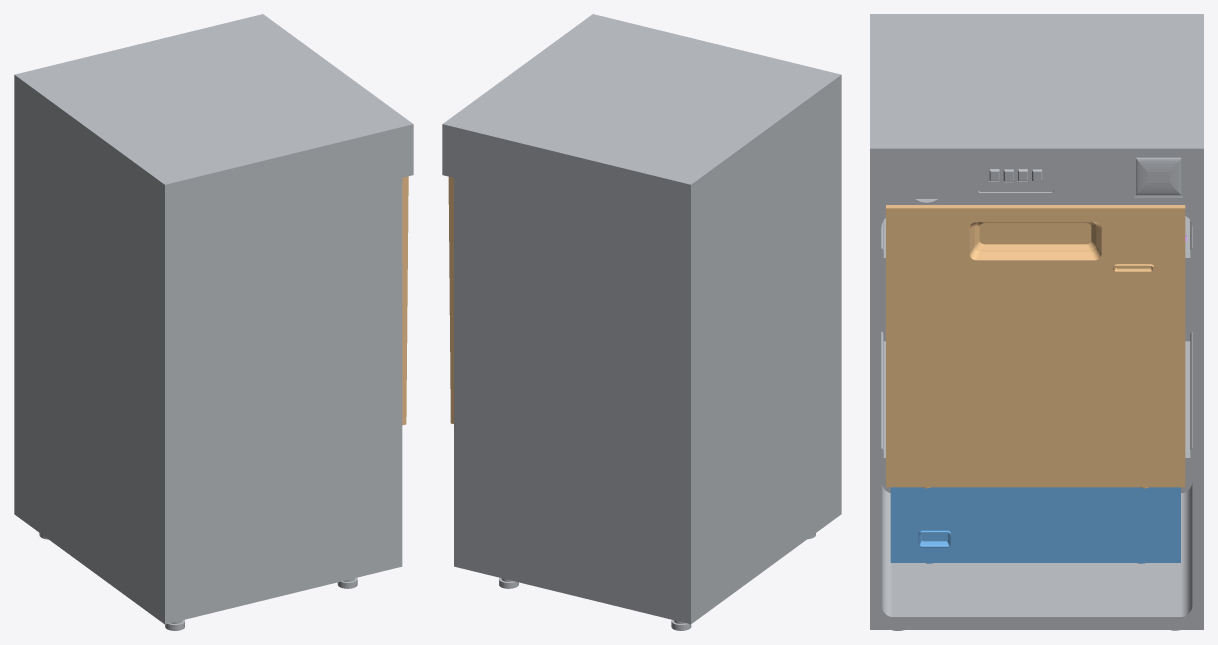
The model's file is parts.glb.
3 views of the same model, side by side, from view 1: azimuth 30°, elevation 25°; view 2: azimuth 150°, elevation 25°; view 3: azimuth 270°, elevation 25° (orthographic). The views are drawn at different scales.
Visible parts, largest first — view 1: visual_0_0, visual_2_0; view 2: visual_0_0, visual_2_0; view 3: visual_0_0, visual_2_0, visual_1_0.
Boxes of the visible parts, x1=… form: visual_0_0: x1=14, y1=14, x2=413, y2=630; visual_2_0: x1=402, y1=176, x2=408, y2=425; visual_0_0: x1=442, y1=14, x2=841, y2=630; visual_2_0: x1=448, y1=176, x2=453, y2=423; visual_0_0: x1=870, y1=14, x2=1203, y2=630; visual_2_0: x1=886, y1=205, x2=1185, y2=488; visual_1_0: x1=890, y1=487, x2=1180, y2=563.
Size of the model in its own units: 0.8875 by 1.52 by 0.9065.
